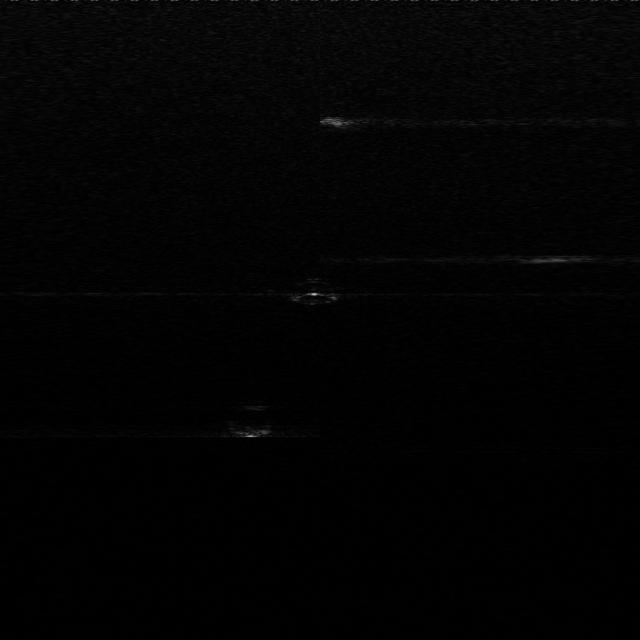ball: (224, 398, 287, 441)
tyre: (286, 274, 350, 308)
